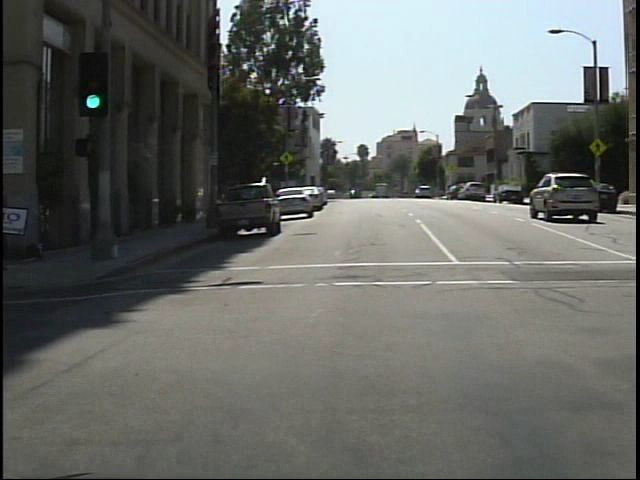person: (3, 162, 14, 278)
